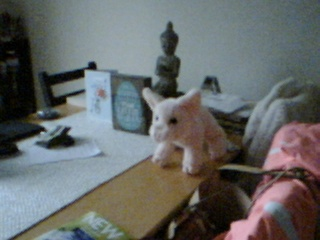piggy: (140, 85, 230, 177)
